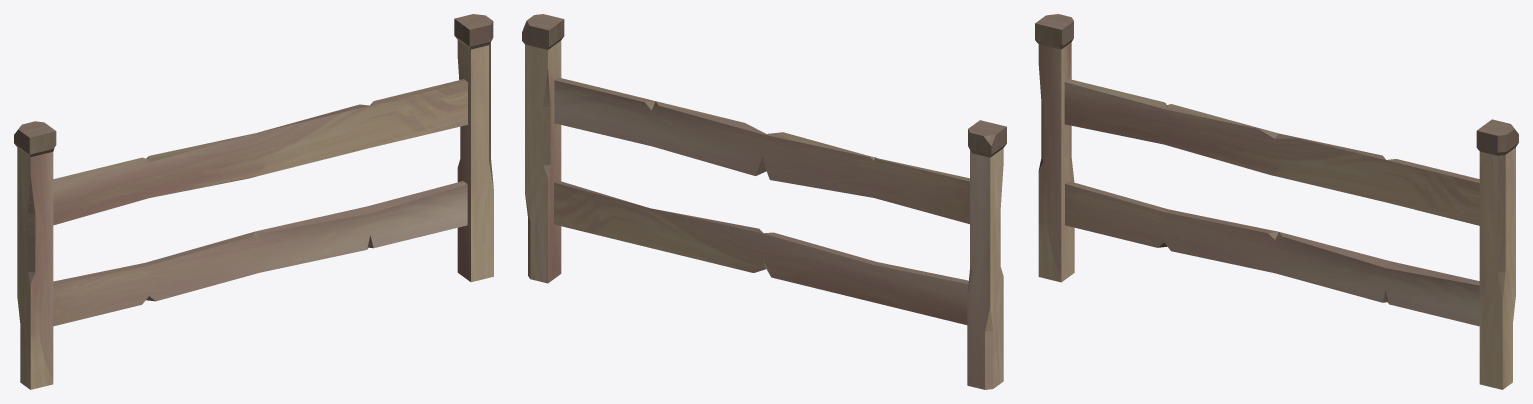
The model's file is fence post.fbx.
3 renders of one model, left to right at view 1: azimuth 30°, elevation 25°; view 2: azimuth 150°, elevation 25°; view 3: azimuth 330°, elevation 25°, orthographic.
Visible parts, largest first — view 1: Cube; view 2: Cube; view 3: Cube.
Boxes of the visible parts, bbox=[...] form: Cube: bbox=[14, 14, 493, 389]; Cube: bbox=[522, 14, 1006, 389]; Cube: bbox=[1035, 14, 1518, 389].
Size of the model in its own units: 1795 by 931 by 106.
